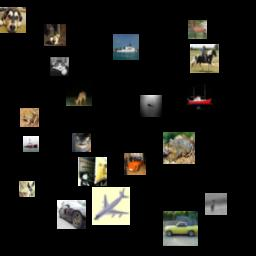airplane: (92, 187, 130, 225), (140, 95, 162, 117)
automobile: (163, 211, 198, 246), (57, 200, 86, 229), (124, 153, 146, 175)
cat: (44, 24, 66, 46), (72, 133, 91, 152), (50, 57, 69, 76)
deer: (66, 80, 92, 106), (205, 193, 227, 215), (188, 20, 207, 39), (19, 181, 35, 197)
dog: (0, 7, 26, 33)
frog: (163, 132, 195, 164), (20, 108, 39, 127)
ship: (187, 84, 213, 110), (113, 34, 139, 60), (23, 136, 39, 152)
truck: (78, 157, 107, 186)
